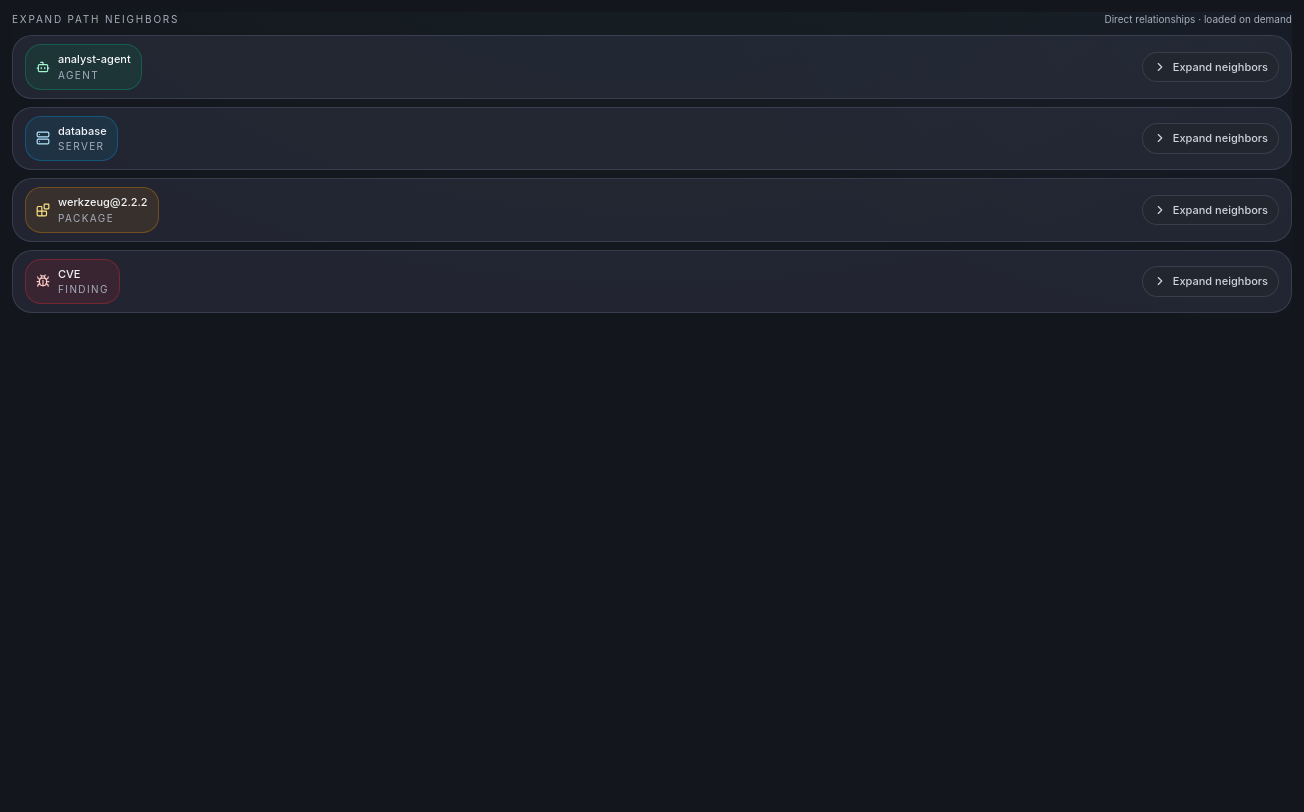
Test: ExposurePathNeighborExplorer › lazy-loads and reveals a hop's neighbors on expand, then hides them on collapse
Click the button with aria-label "Expand neighbors of database": [1210, 138] box [1142, 123, 1279, 154]
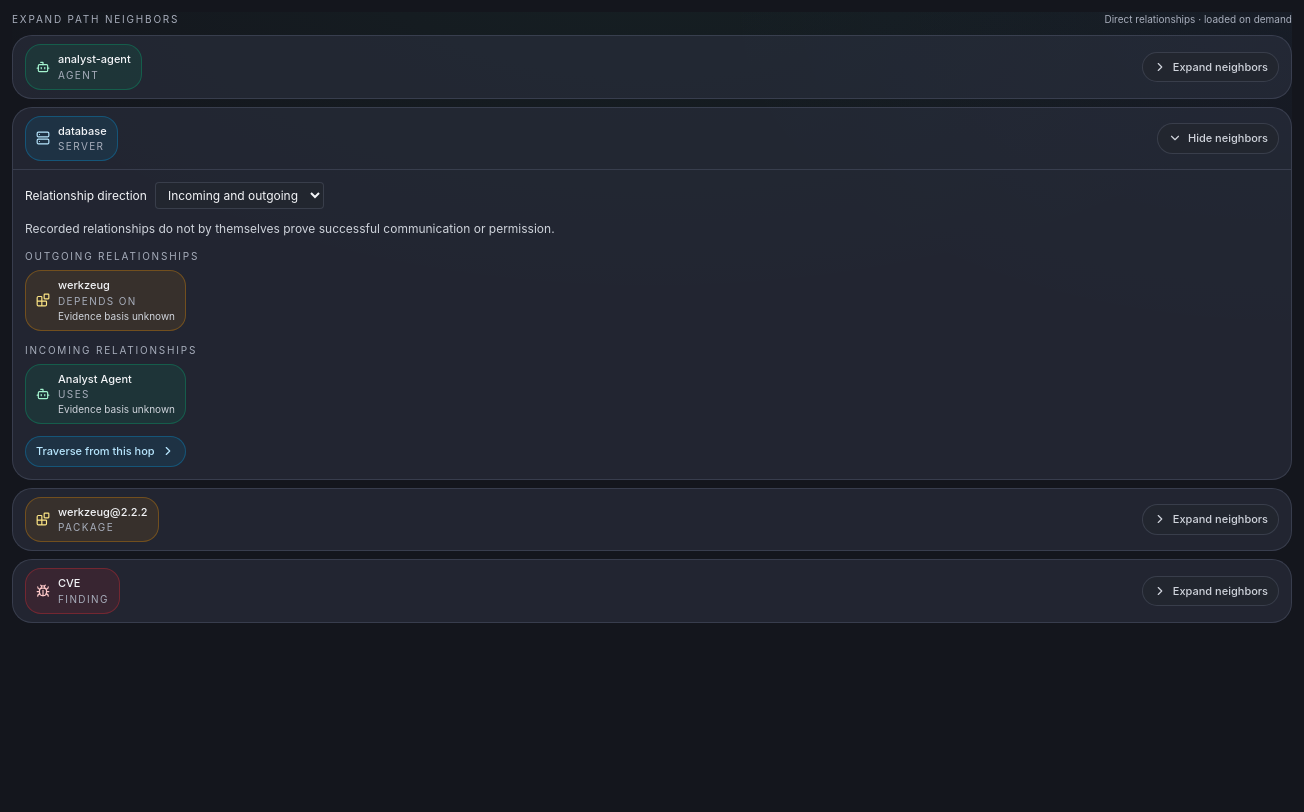
Check: the text "Outgoing relationships" is shown, box [25, 250, 199, 262]
Check: the text "Incoming relationships" is shown, box [25, 344, 197, 356]
Check: the text "werkzeug" is shown, box [58, 278, 110, 292]
// Collapsing hides the revealed neighbors without refetching.
Click the button with aria-label "Collapse neighbors of database": [1218, 138] box [1157, 123, 1279, 154]
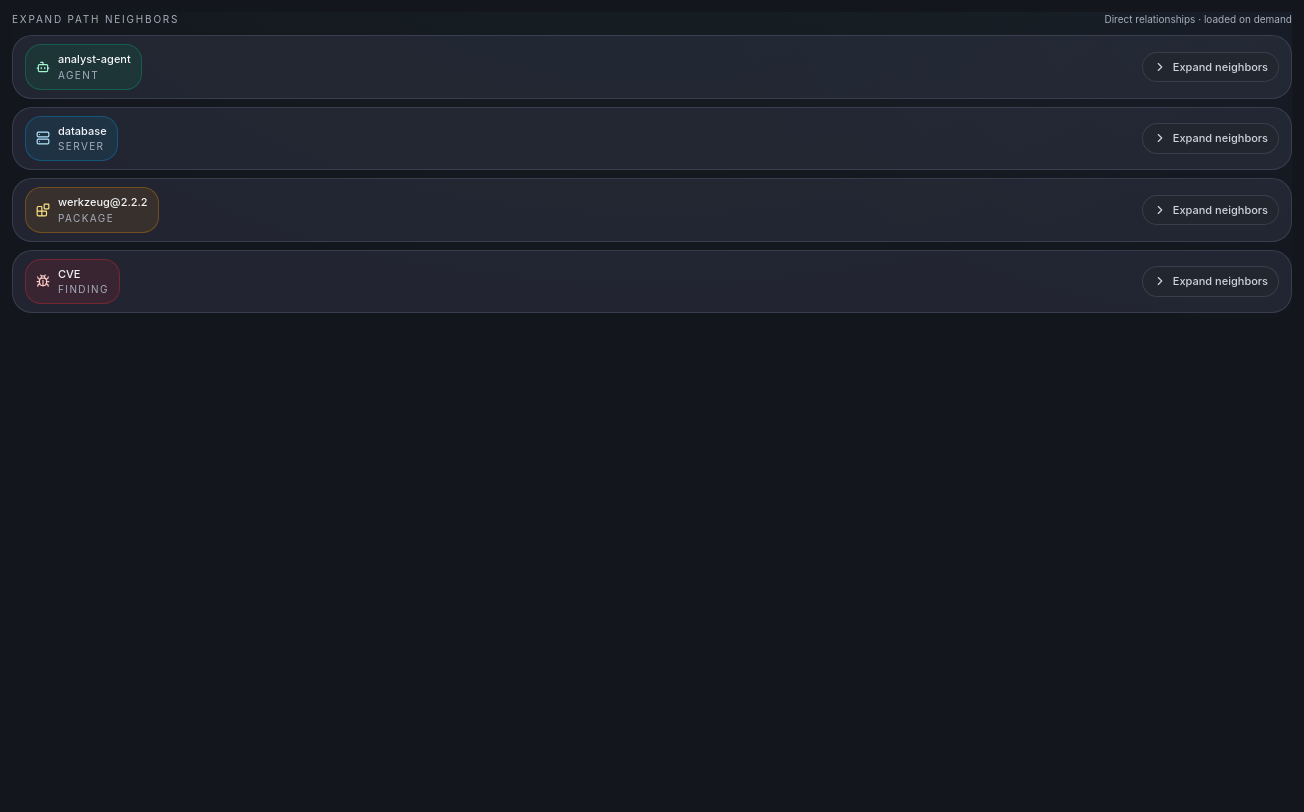
Check: the text "Outgoing relationships" is gone
// Re-expanding is served from cache (no second network call).
Click the button with aria-label "Expand neighbors of database": [1210, 138] box [1142, 123, 1279, 154]
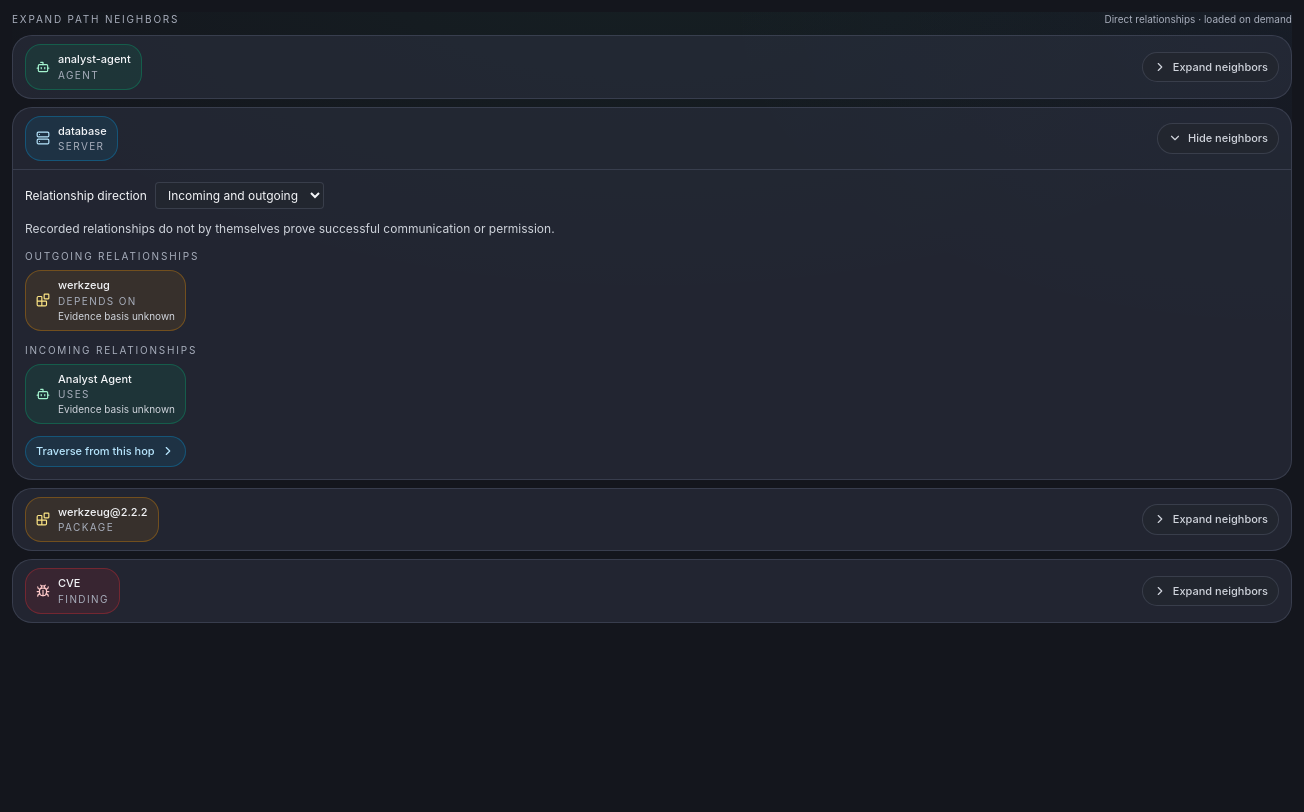
Check: the text "Outgoing relationships" is shown, box [25, 250, 199, 262]
